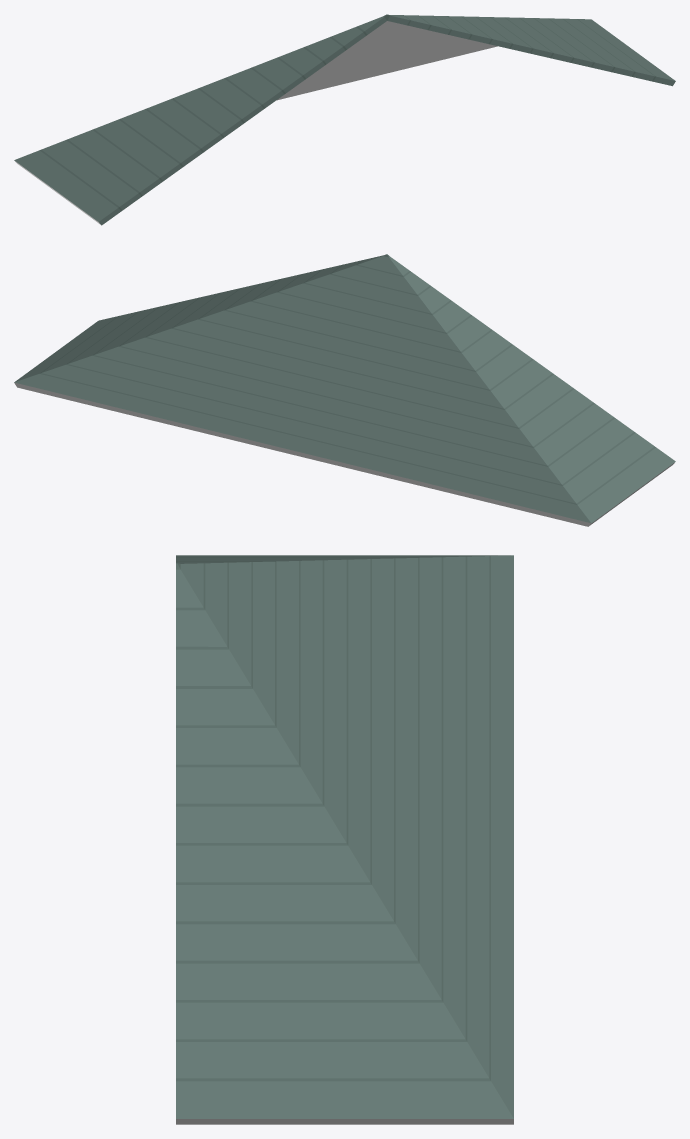
File: Roof5_C6_02.fbx
The picture shows the model from 3 angles, top to bottom: view 1: azimuth 30°, elevation 25°; view 2: azimuth 150°, elevation 25°; view 3: azimuth 270°, elevation 25°; orthographic projection. The views are drawn at different scales.
Visible parts, largest first — view 1: Roof5_C6_02; view 2: Roof5_C6_02; view 3: Roof5_C6_02.
Part boxes in pixels (left/top/right/bottom): Roof5_C6_02: left=14, top=14, right=675, bottom=225; Roof5_C6_02: left=14, top=254, right=675, bottom=526; Roof5_C6_02: left=176, top=555, right=513, bottom=1124.
Bounding box in the file's own units: 1105 × 258 × 280.
